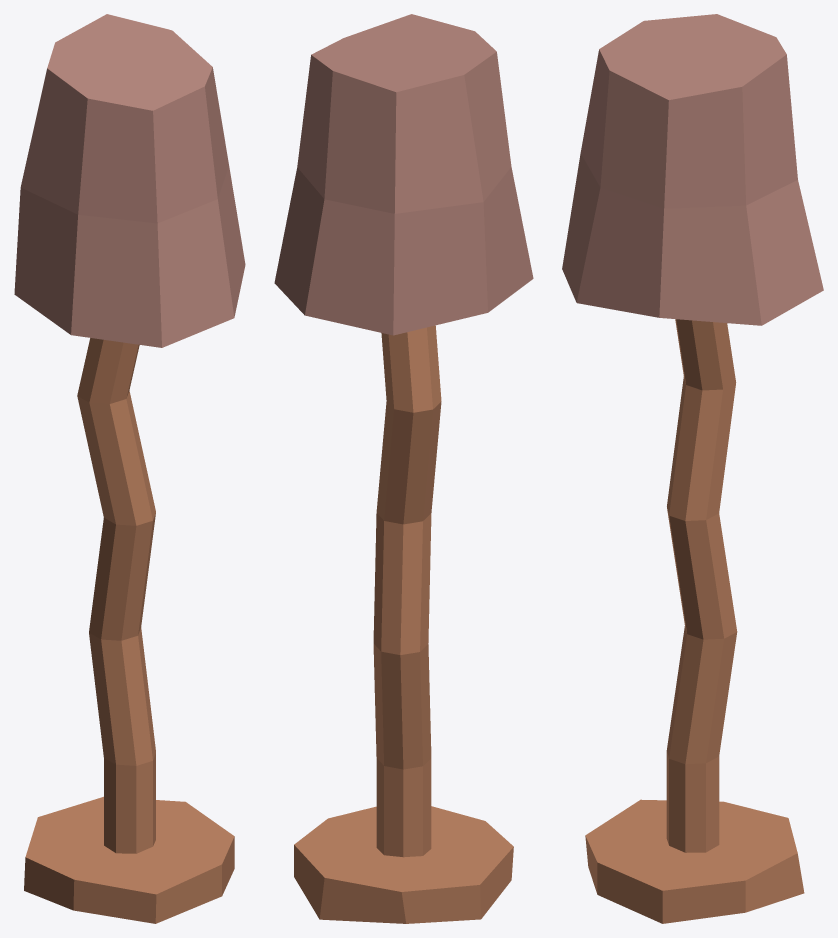
The model's file is lamp_small_1.fbx.
3 renders of one model, left to right at view 1: azimuth 30°, elevation 25°; view 2: azimuth 150°, elevation 25°; view 3: azimuth 270°, elevation 25°, orthographic. The views are drawn at different scales.
Parts seen in each view (by area): view 1: Lamp; view 2: Lamp; view 3: Lamp.
Boxes of the visible parts, x1=… form: Lamp: x1=14, y1=14, x2=245, y2=923; Lamp: x1=274, y1=14, x2=533, y2=923; Lamp: x1=562, y1=14, x2=823, y2=923.
Size of the model in its own units: 27.24 by 109 by 30.82.
